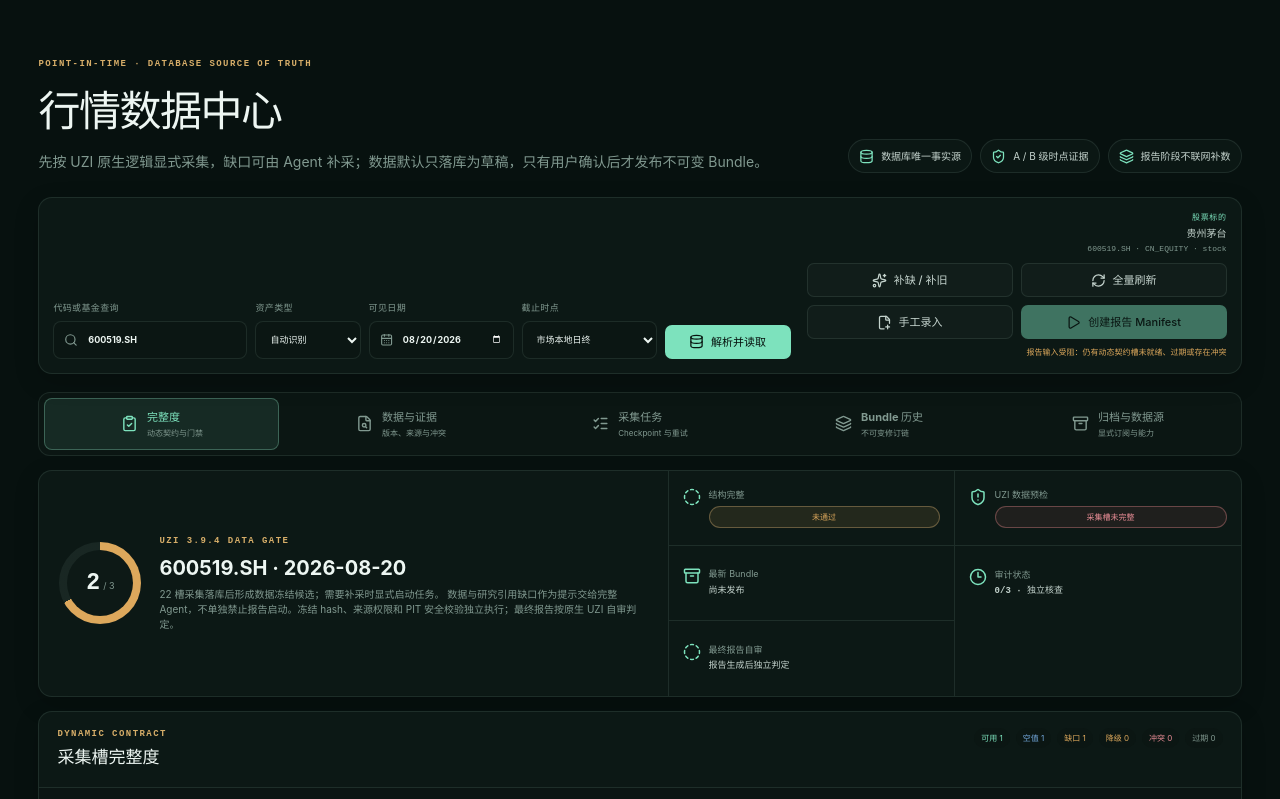
MarketDataCenter › starts external acquisition only after an explicit user action with default concurrency five
expect the heading "采集槽完整度" is shown: met, box [57,745,167,771]
Click the button "补缺 / 补旧" at {"x": 910, "y": 280}, box [807,263,1013,297]
(page scrolled)
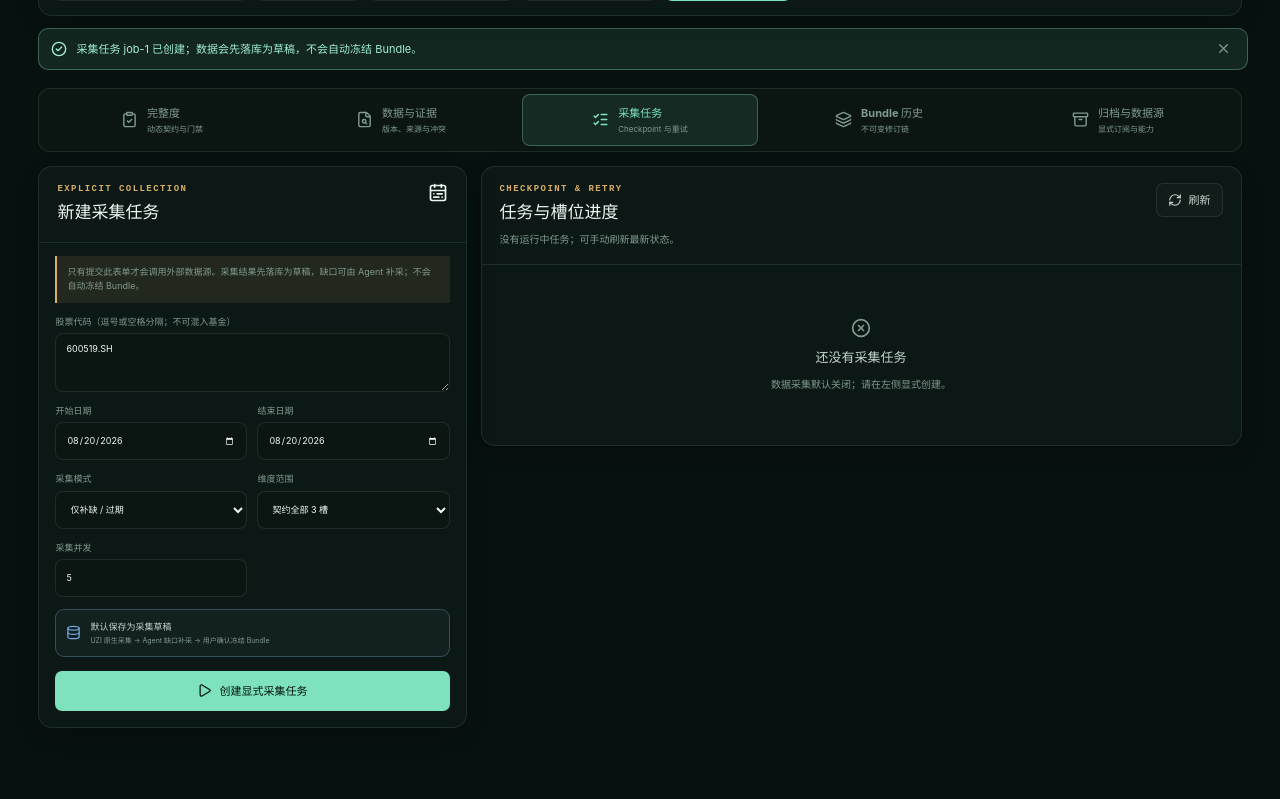
expect the heading "新建采集任务" is shown: met, box [57,202,159,222]
